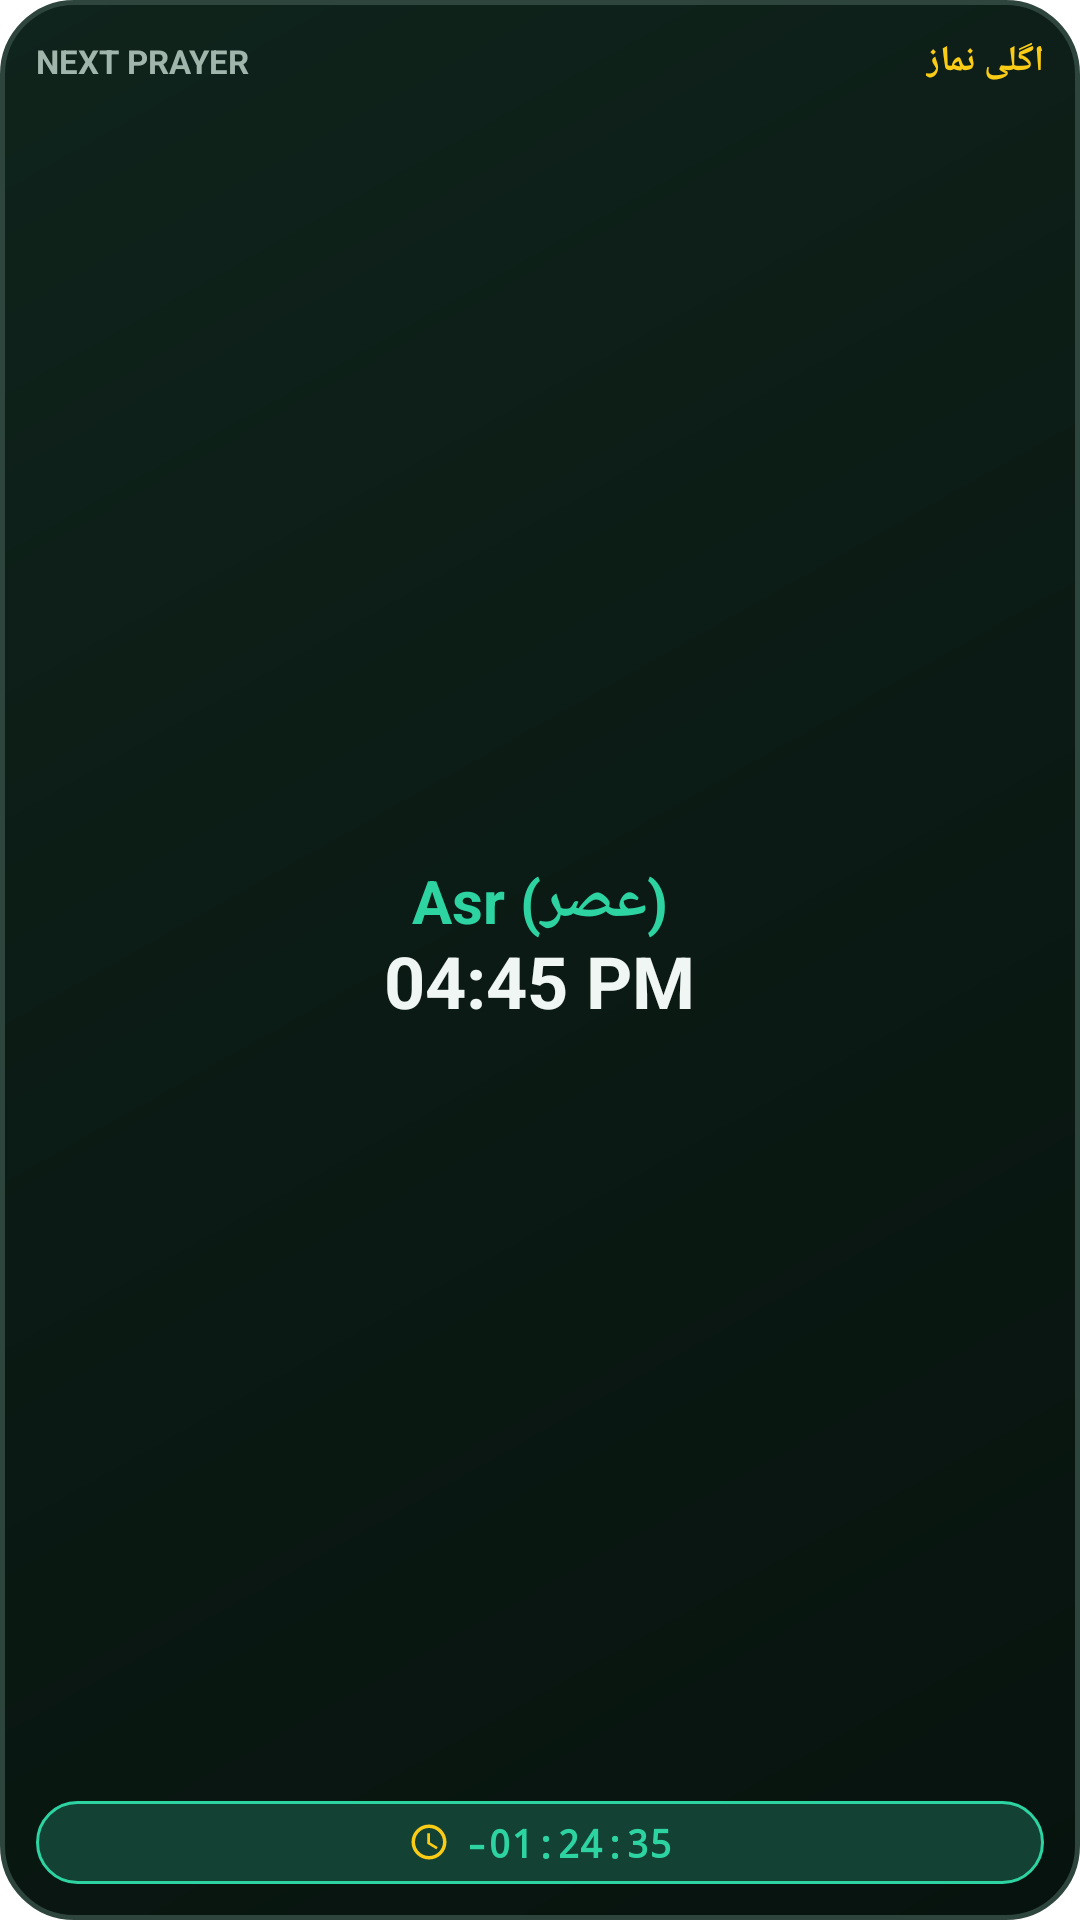

Where icons sit on this 1080px x 1920px app screen, as box(x1, y1, x2, y2):
Countdown: box(411, 1824, 447, 1860)
